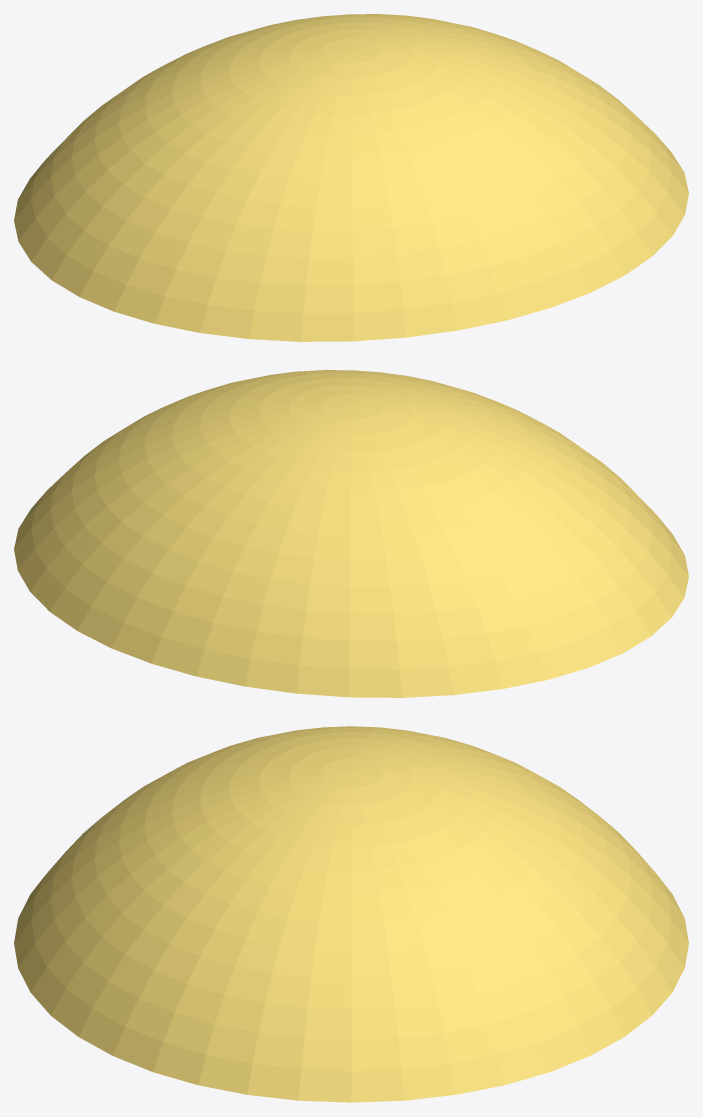
The model's file is outElement4.glb.
3 renders of one model, top to bottom at view 1: azimuth 30°, elevation 25°; view 2: azimuth 150°, elevation 25°; view 3: azimuth 270°, elevation 25°, orthographic. The views are drawn at different scales.
Parts seen in each view (by area): view 1: Сфера.004; view 2: Сфера.004; view 3: Сфера.004.
Boxes of the visible parts, x1,y1,x2,y2 form: Сфера.004: [14, 14, 688, 341]; Сфера.004: [14, 370, 688, 697]; Сфера.004: [14, 726, 688, 1102].
Size of the model in its own units: 14.49 by 3.63 by 12.97.
